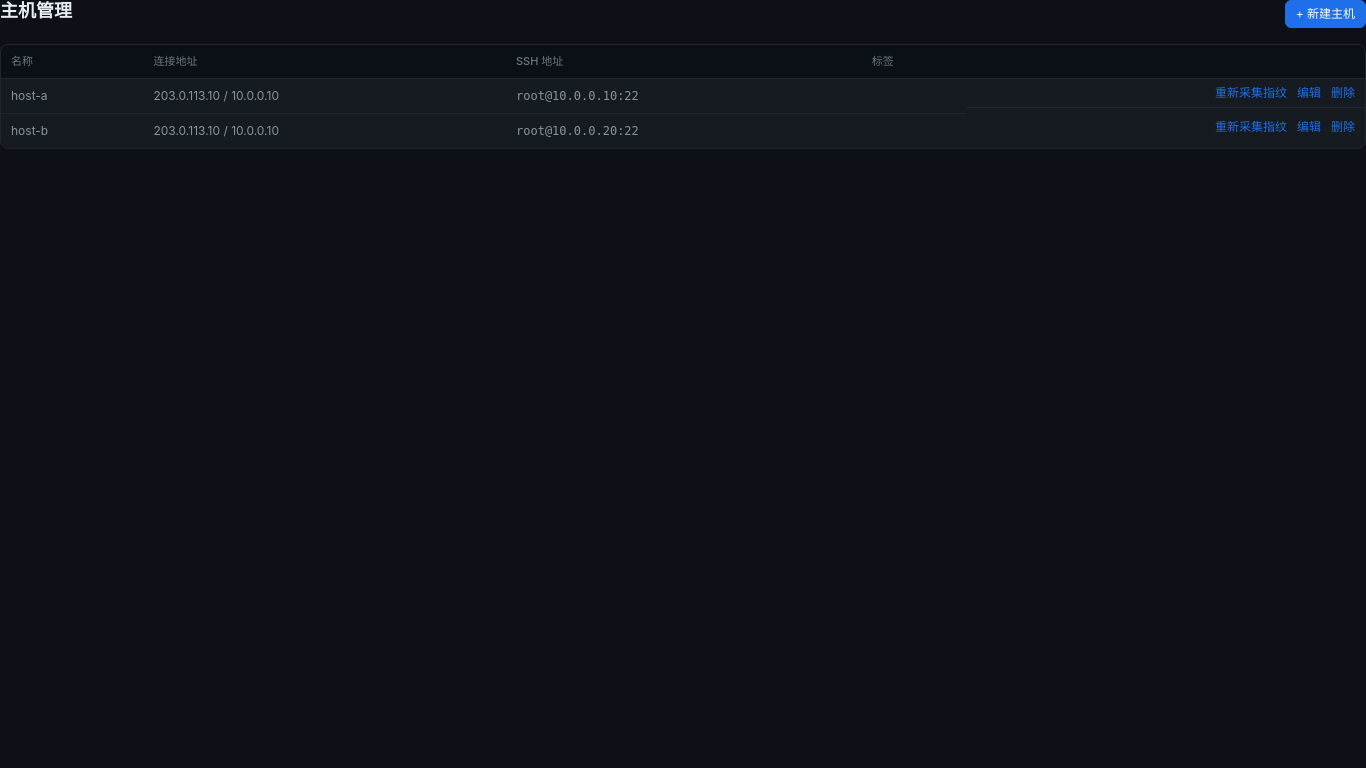
Test: HostManagerTab › discards a late-arriving scan failure from a different host
Click the button with test id "host-rescan" in the row of "host-a": (1251, 92) x1=1215 y1=86 x2=1287 y2=98
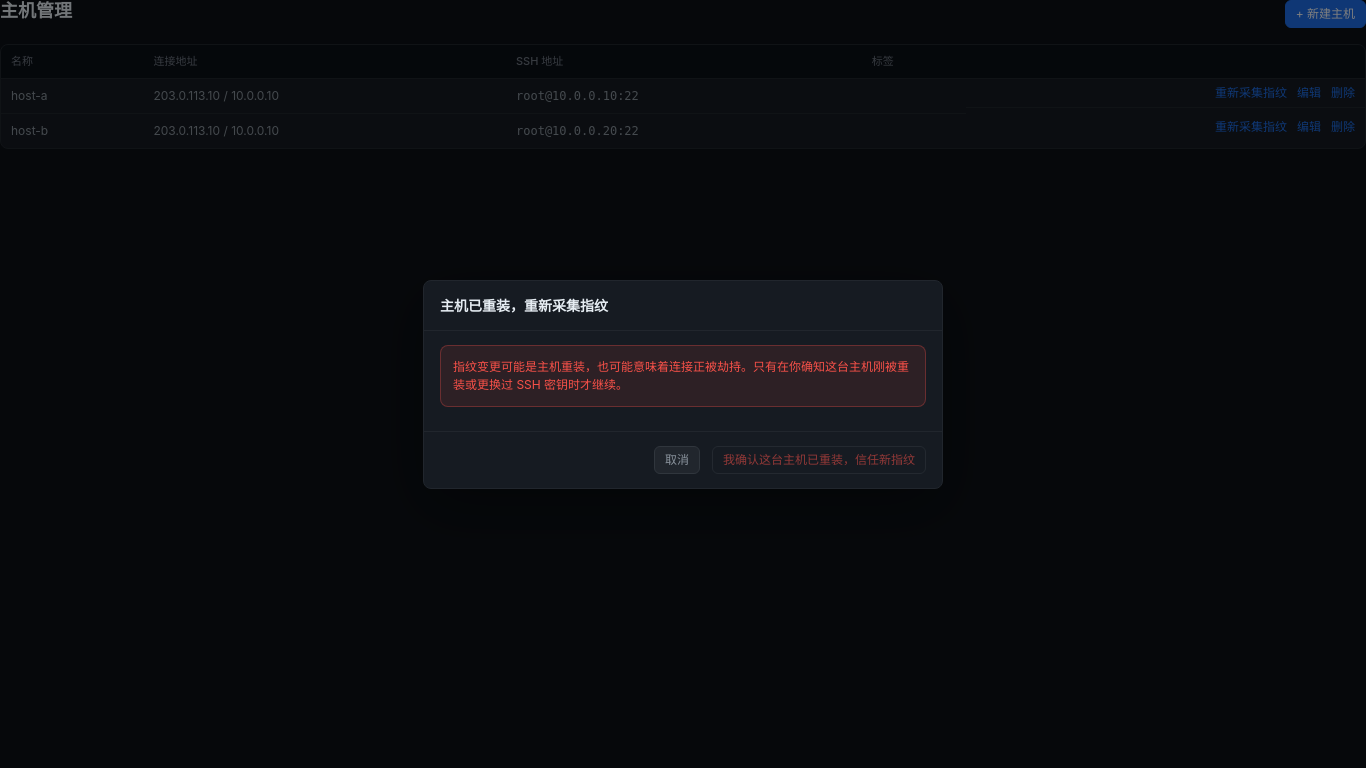
Click the element with class "settings-modal-backdrop": (82, 384) x1=0 y1=0 x2=1365 y2=767
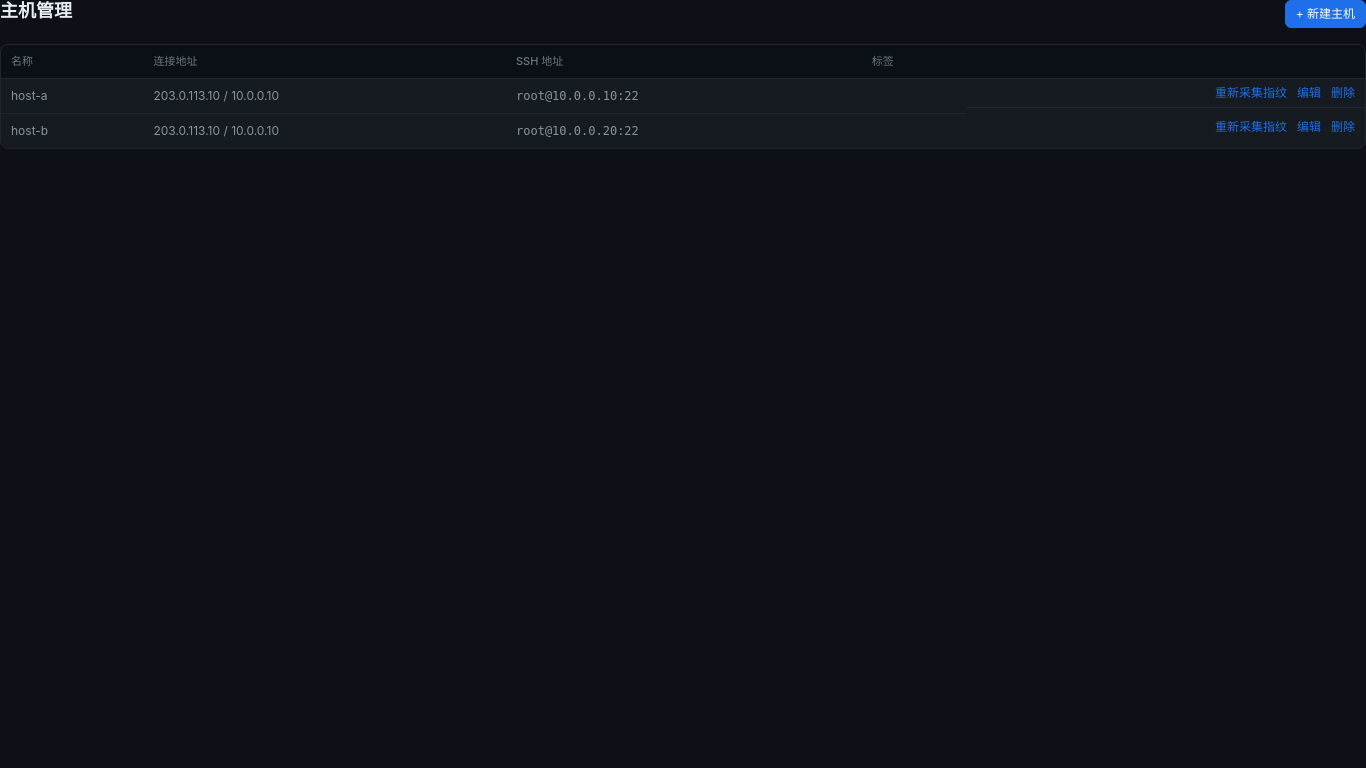
Click the button with test id "host-rescan" in the row of "host-b": (1251, 127) x1=1215 y1=121 x2=1287 y2=133
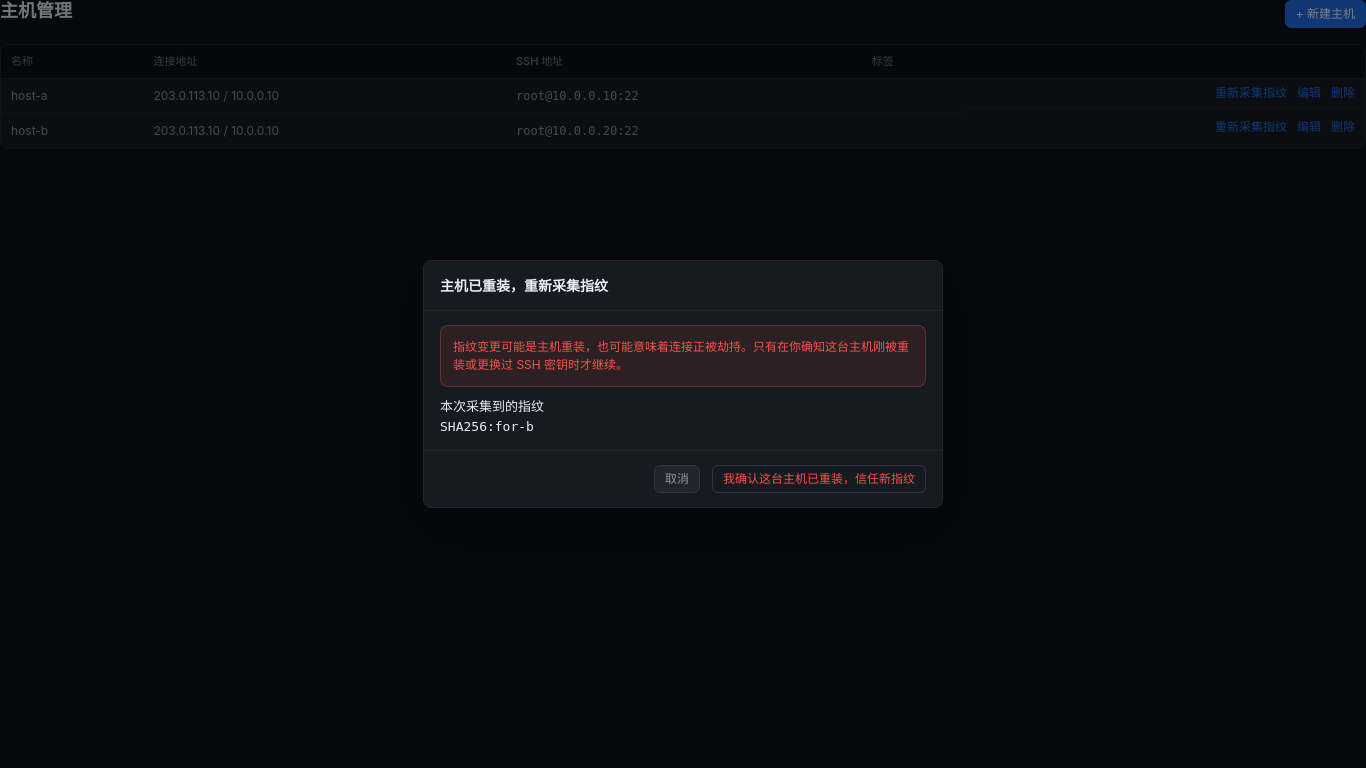
Expected: the text with test id "host-rescan-new-fingerprint" reads "SHA256:for-b", x1=440 y1=418 x2=534 y2=434
